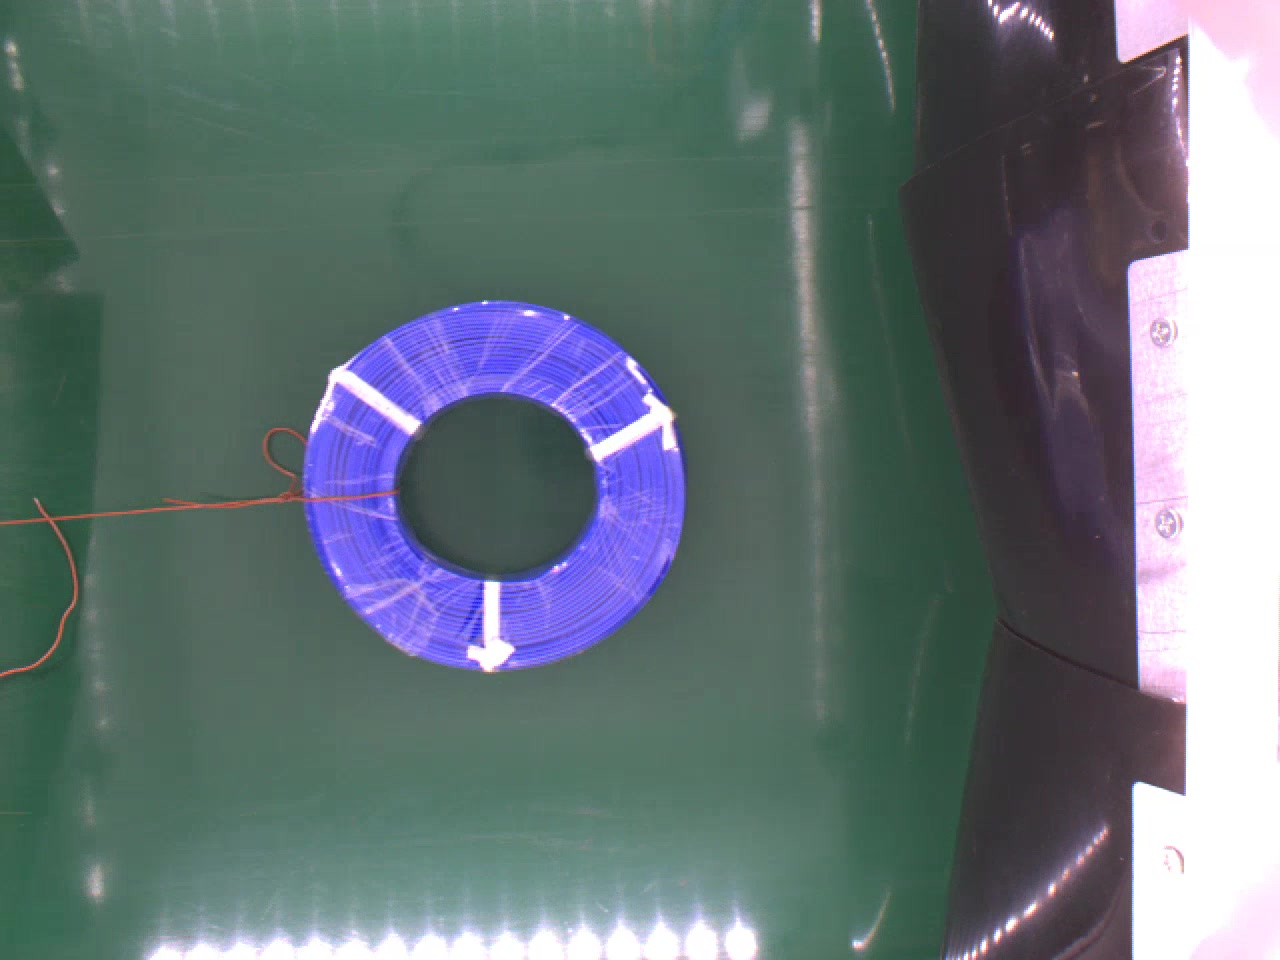blue: (299, 295, 691, 672)
